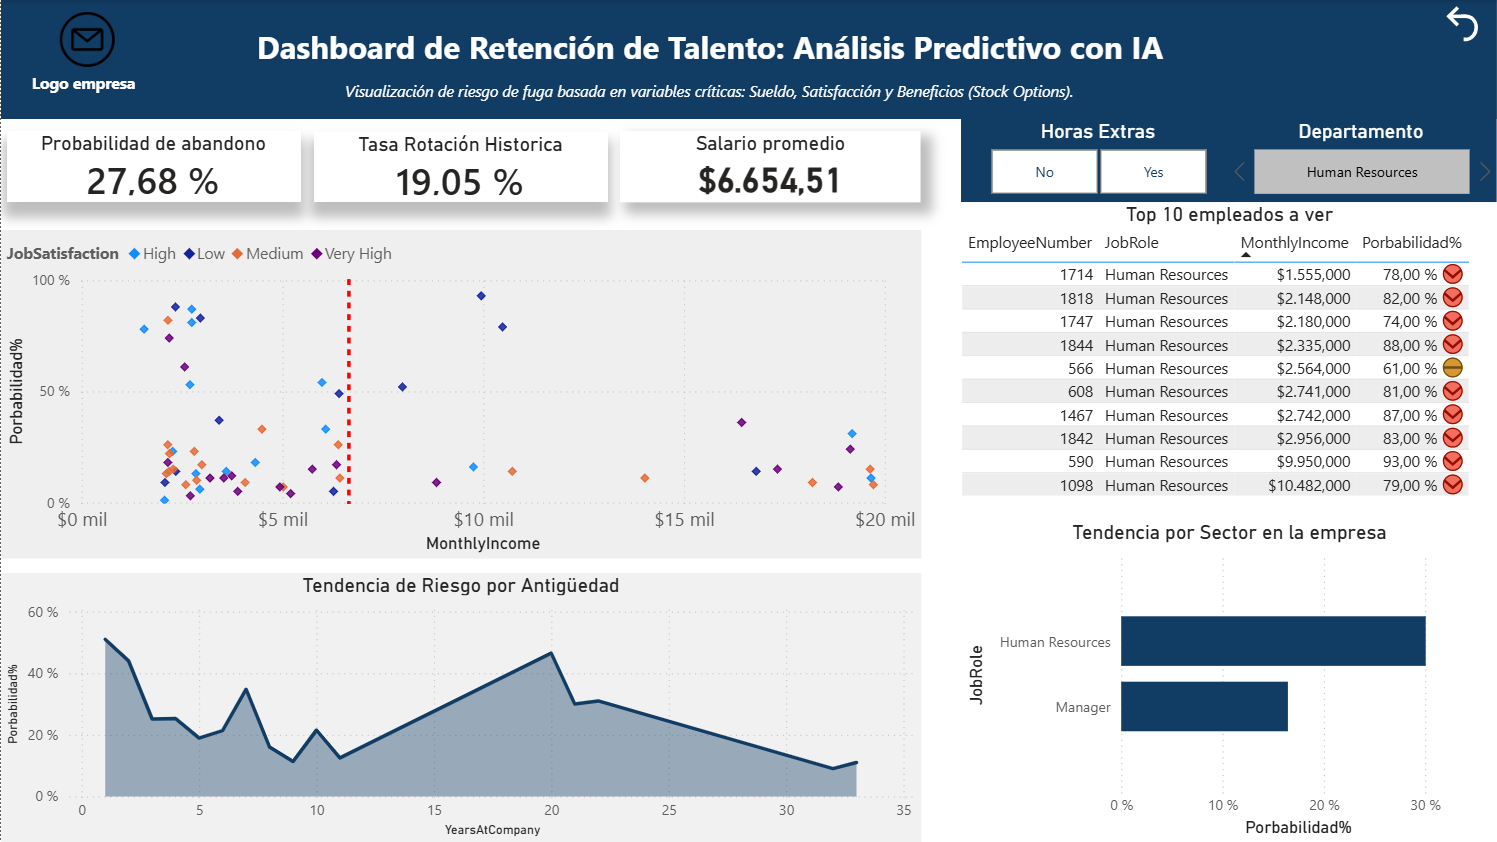

The page's visual inventory and layout, read from the dashboard file:
{"tool":"powerbi","page":{"name":"Página 1","canvas":[1280,720],"ordinal":0},"visuals":[{"type":"scatterChart","fields":{"X":["Resultado_Final_RRHH.MonthlyIncome"],"Series":["Resultado_Final_RRHH.JobSatisfaction"],"Y":["Resultado_Final_RRHH.Porbabilidad%"]},"box":[0,196.7,786.7,281.3],"z":0},{"type":"shape","box":[0,0,1280.1,101.8],"z":2000},{"type":"textbox","box":[206.1,16.2,800.4,57.3],"z":3000},{"type":"textbox","box":[289,64.1,657.6,29.9],"z":4000},{"type":"image","box":[16.2,10.3,114.6,47],"z":5000},{"type":"textbox","box":[21.4,57.3,104.3,31.6],"z":6000},{"type":"cardVisual","title":"Probabilidad de abandono","fields":{"Data":["Resultado_Final_RRHH.Medida 2"]},"box":[5.1,112,250.5,60.7],"z":7000},{"type":"cardVisual","title":"Tasa Rotación Historica","fields":{"Data":["Avg(Resultado_Final_RRHH.Target)"]},"box":[267.6,112.9,250.5,59.9],"z":8000},{"type":"tableEx","title":"Top 10 empleados a ver","fields":{"Values":["Resultado_Final_RRHH.EmployeeNumber","Resultado_Final_RRHH.JobRole","Resultado_Final_RRHH.MonthlyIncome","Resultado_Final_RRHH.Porbabilidad%"]},"box":[820.9,172.7,459.2,271.9],"z":9000},{"type":"slicer","title":"Departamento","fields":{"Values":["Resultado_Final_RRHH.Department"]},"box":[1045.8,101.8,234.3,71],"z":10500},{"type":"slicer","title":"Horas Extras","fields":{"Values":["Resultado_Final_RRHH.OverTime"]},"box":[820.9,101.8,234.3,71],"z":11000},{"type":"actionButton","box":[1229.6,0,40.2,40.2],"z":11001},{"type":"clusteredBarChart","title":"Tendencia por Sector en la empresa","fields":{"Y":["Resultado_Final_RRHH.Porbabilidad%"],"Category":["Resultado_Final_RRHH.JobRole"]},"box":[820.9,444.7,459.2,275.3],"z":11002},{"type":"areaChart","title":"Tendencia de Riesgo por Antigüedad","fields":{"Category":["Resultado_Final_RRHH.YearsAtCompany"],"Y":["Resultado_Final_RRHH.Porbabilidad%"]},"box":[0,490,786.7,230],"z":11003},{"type":"card","title":"Salario promedio","fields":{"Values":["Avg(Resultado_Final_RRHH.MonthlyIncome)"]},"box":[529.3,112,257.4,60.7],"z":11004}]}

Visuals, with their boxes in screenshot pixels (x1, y1, x2, y2), scaled from the page's 1280x720 canvas onto the 1497x842 screenshot:
scatterChart - Resultado_Final_RRHH.MonthlyIncome x Resultado_Final_RRHH.JobSatisfaction: locate(0, 230, 920, 559)
shape: locate(0, 0, 1496, 119)
textbox: locate(241, 19, 1177, 86)
textbox: locate(338, 75, 1107, 110)
image: locate(19, 12, 153, 67)
textbox: locate(25, 67, 147, 104)
"Probabilidad de abandono" cardVisual: locate(6, 131, 299, 202)
"Tasa Rotación Historica" cardVisual: locate(313, 132, 606, 202)
"Top 10 empleados a ver" tableEx: locate(960, 202, 1496, 520)
"Departamento" slicer: locate(1223, 119, 1496, 202)
"Horas Extras" slicer: locate(960, 119, 1234, 202)
actionButton: locate(1438, 0, 1485, 47)
"Tendencia por Sector en la empresa" clusteredBarChart: locate(960, 520, 1496, 841)
"Tendencia de Riesgo por Antigüedad" areaChart: locate(0, 573, 920, 841)
"Salario promedio" card: locate(619, 131, 920, 202)
